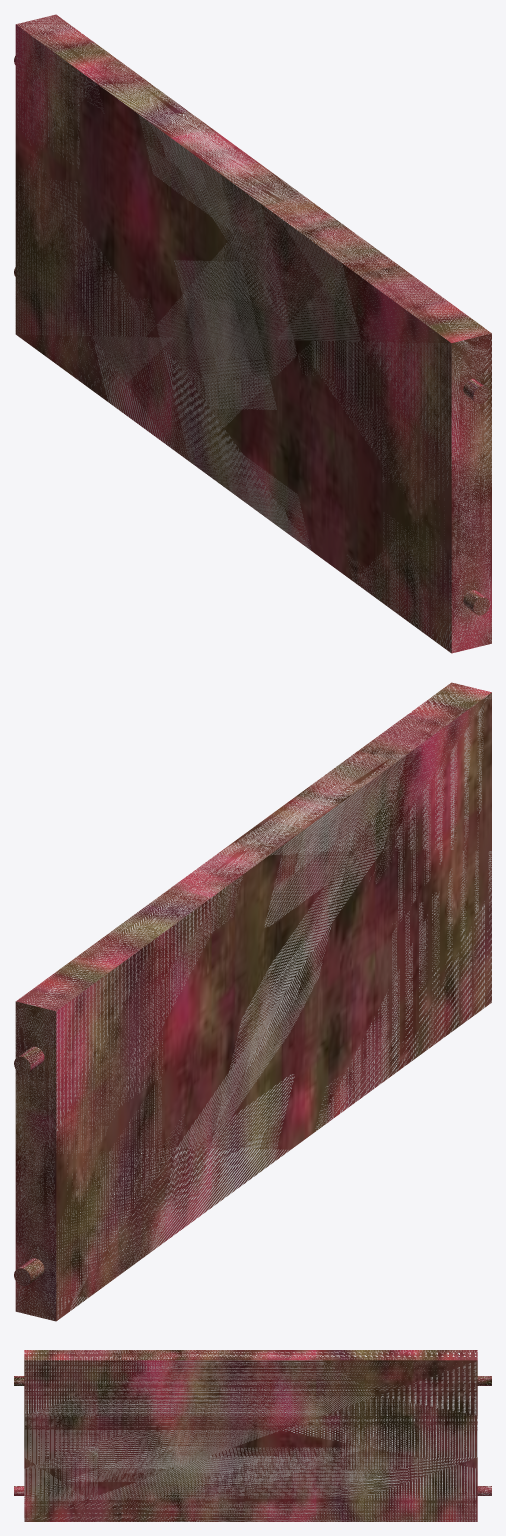
Rendered from original-65.obj.
3 renders of one model, top to bottom at view 1: azimuth 30°, elevation 25°; view 2: azimuth 150°, elevation 25°; view 3: azimuth 270°, elevation 25°, orthographic. The views are drawn at different scales.
Visible parts, largest first — view 1: Component_6_3/Component_6/mesh15/mesh15-geometry#mesh15-geometry; view 2: Component_6_3/Component_6/mesh15/mesh15-geometry#mesh15-geometry; view 3: Component_6_3/Component_6/mesh15/mesh15-geometry#mesh15-geometry.
Boxes of the visible parts, x1,y1,x2,y2 form: Component_6_3/Component_6/mesh15/mesh15-geometry#mesh15-geometry: (14,14,491,653); Component_6_3/Component_6/mesh15/mesh15-geometry#mesh15-geometry: (14,682,491,1321); Component_6_3/Component_6/mesh15/mesh15-geometry#mesh15-geometry: (14,1350,491,1521).
Bounding box in the file's own units: 0.0131 × 0.0964 × 0.2587.
